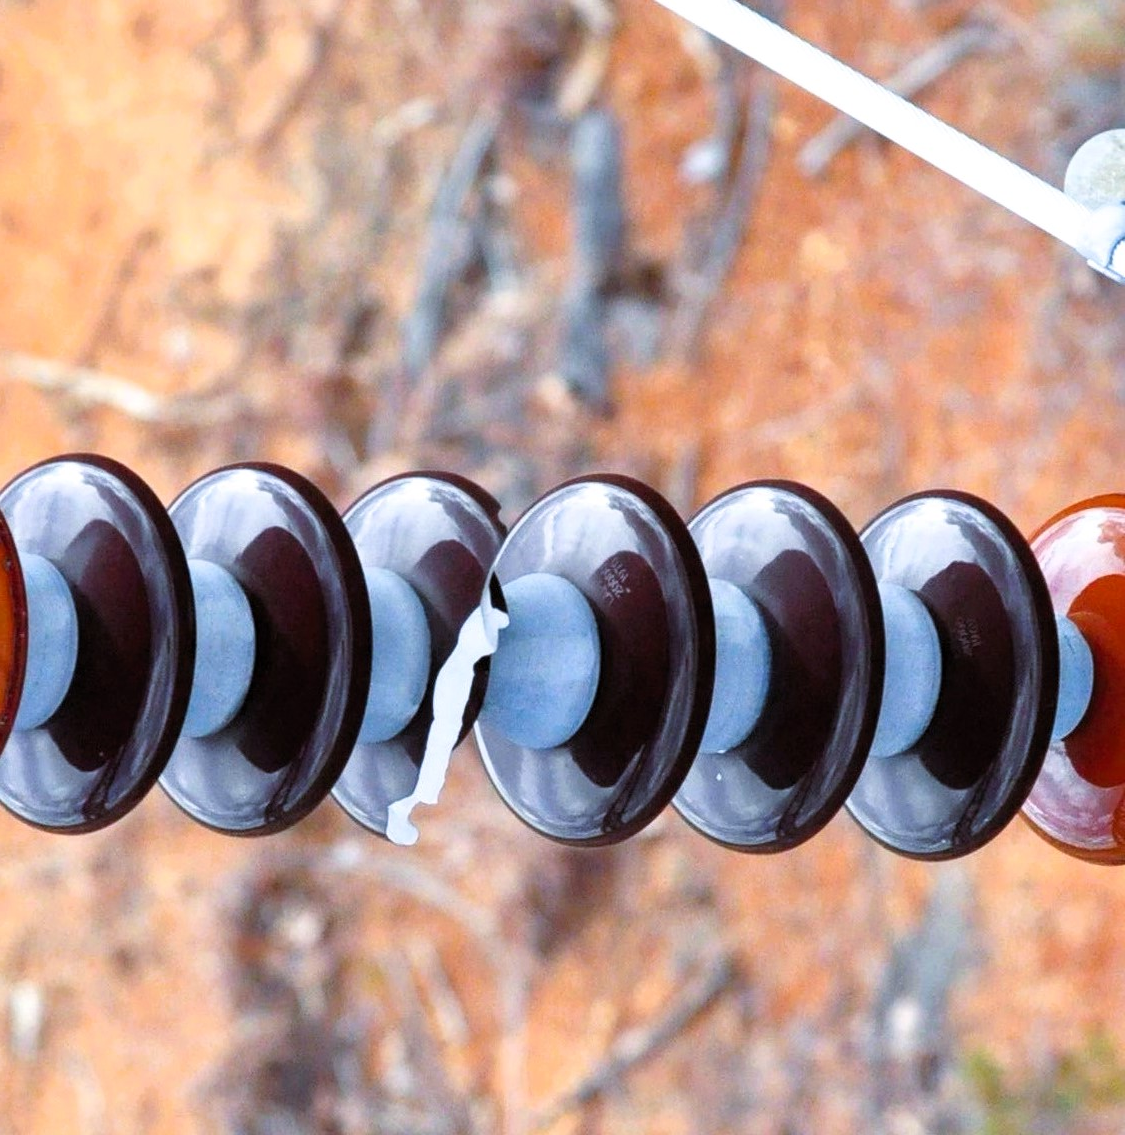insulator breakage: (312, 459, 518, 873)
